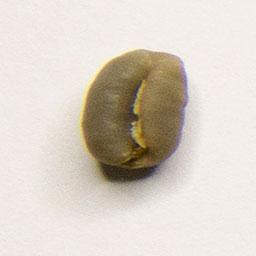peaberry: (78, 46, 192, 174)
